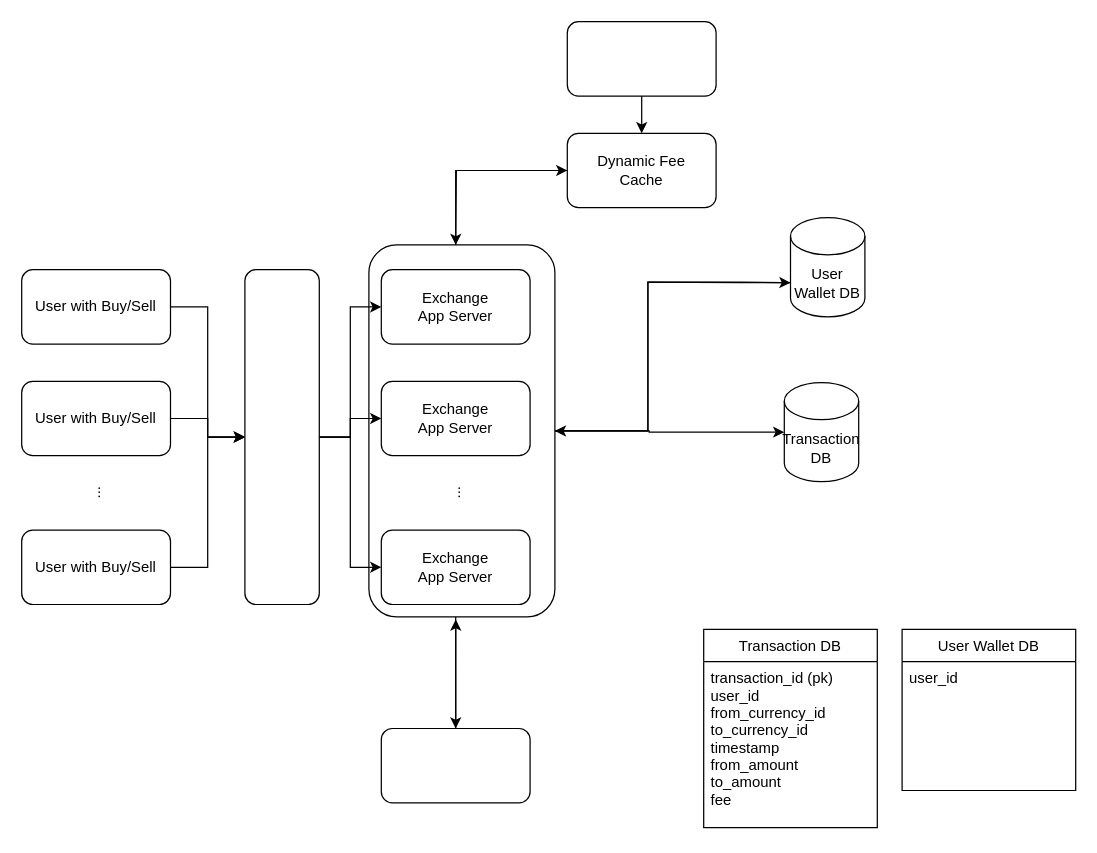
Image size: 1097x853. Some labels were removed from this diagram. The centre of each missing label's shape, as x and y in pixels:
"Fee Service" belongs at (641,58).
"LB" belongs at (281,436).
"Payment Service" belongs at (455,765).
